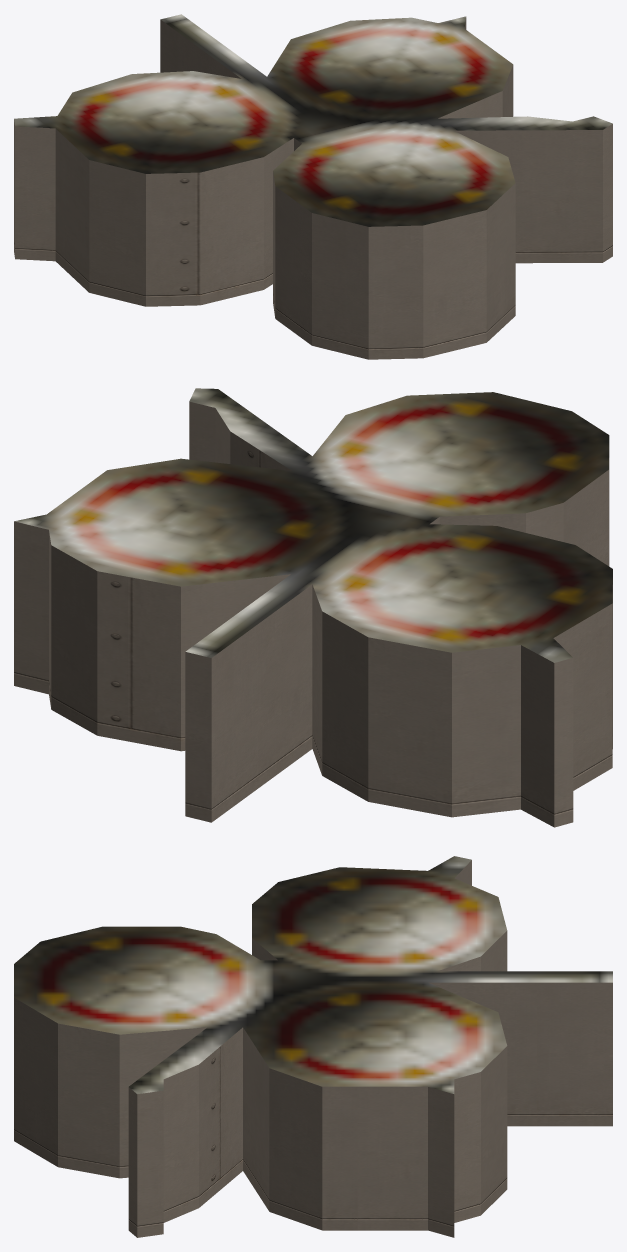
Rendered from fuel_tank_light_39.glb.
The picture shows the model from 3 angles, top to bottom: view 1: azimuth 30°, elevation 25°; view 2: azimuth 150°, elevation 25°; view 3: azimuth 270°, elevation 25°; orthographic projection. The views are drawn at different scales.
Parts seen in each view (by area): view 1: buildings/saxarba/fuel_tanks/fuel_tank_light_39; view 2: buildings/saxarba/fuel_tanks/fuel_tank_light_39; view 3: buildings/saxarba/fuel_tanks/fuel_tank_light_39.
Part boxes in pixels (x1,y1,x2,y2): buildings/saxarba/fuel_tanks/fuel_tank_light_39: [14, 14, 612, 359]; buildings/saxarba/fuel_tanks/fuel_tank_light_39: [14, 388, 612, 827]; buildings/saxarba/fuel_tanks/fuel_tank_light_39: [14, 856, 612, 1237].
Bounding box in the file's own units: 64 × 18 × 68.
